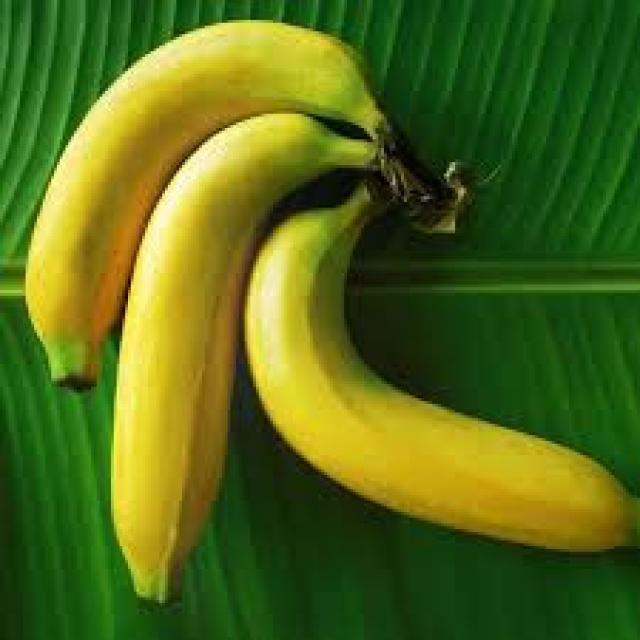banana: (23, 17, 637, 606)
